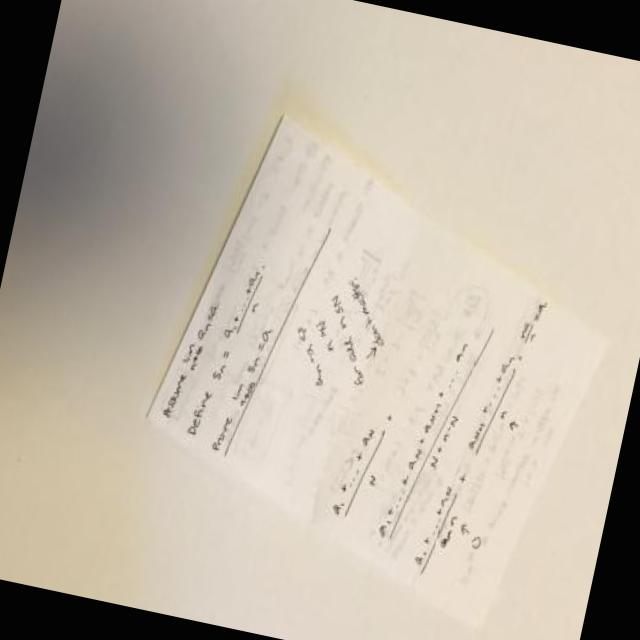giay: (147, 99, 613, 627)
